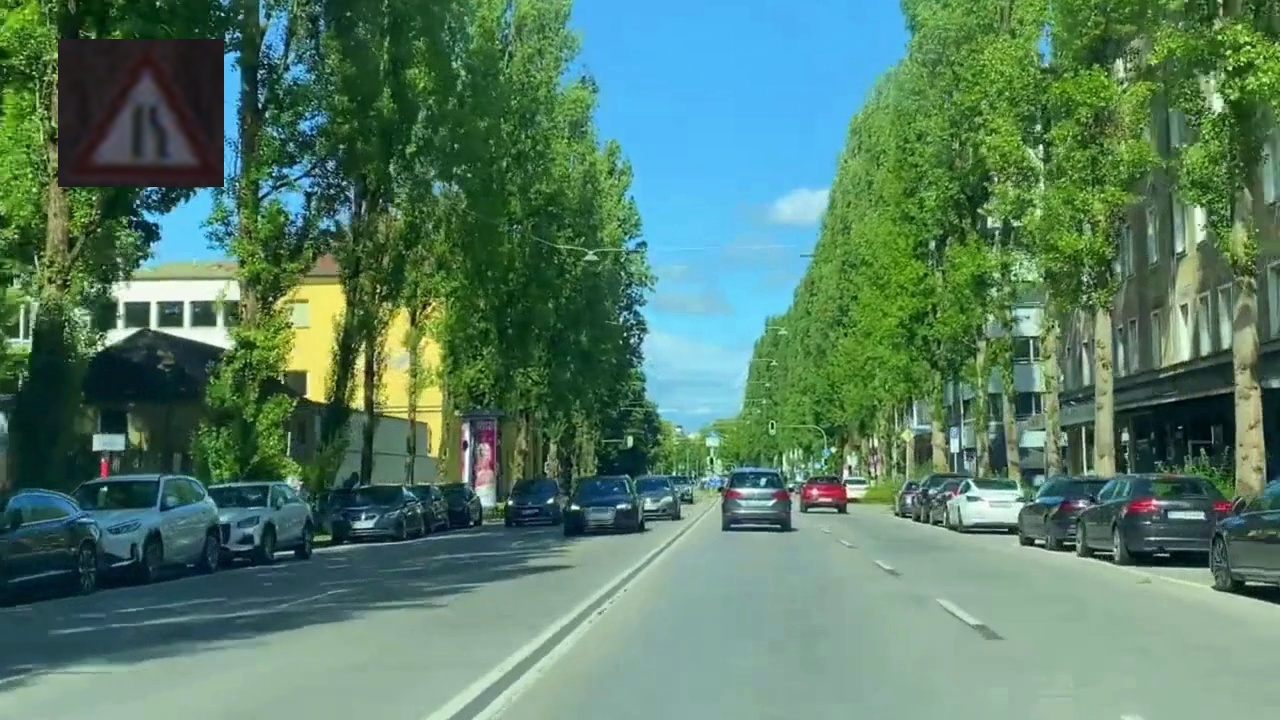Road narrows: (58, 39, 224, 187)
